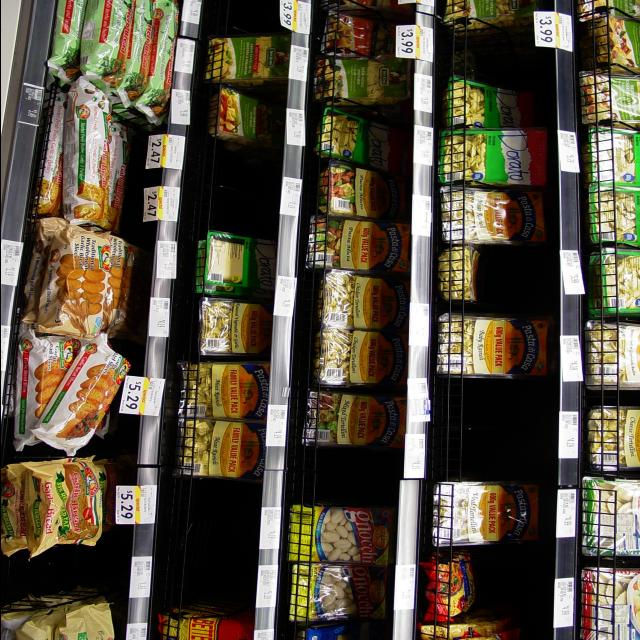empty_space: (164, 482, 250, 598), (434, 384, 530, 478), (288, 446, 392, 504), (199, 148, 269, 226), (0, 557, 93, 593), (457, 26, 525, 74), (478, 252, 539, 304), (206, 4, 274, 36)
